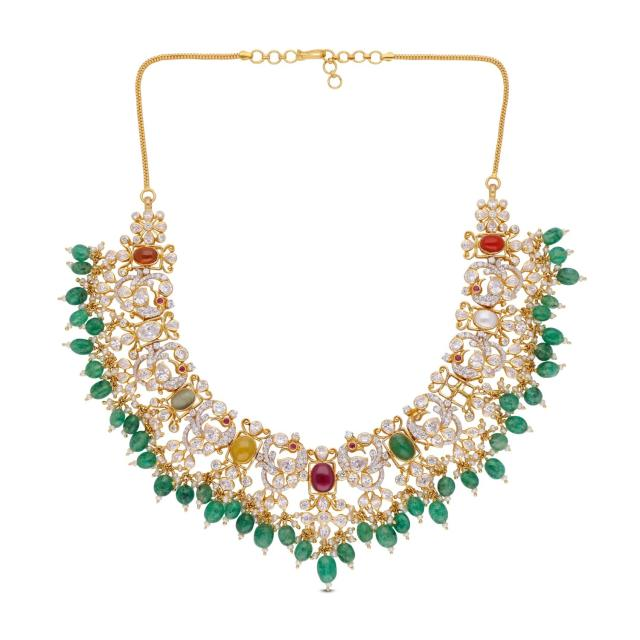missing gem: (444, 380, 470, 401), (413, 412, 420, 419)
